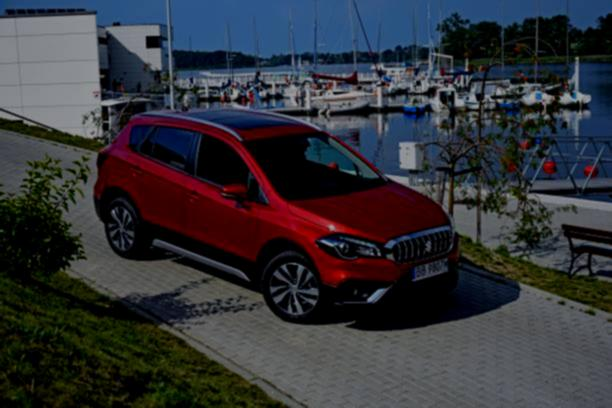suzuki: (421, 237, 436, 253)
